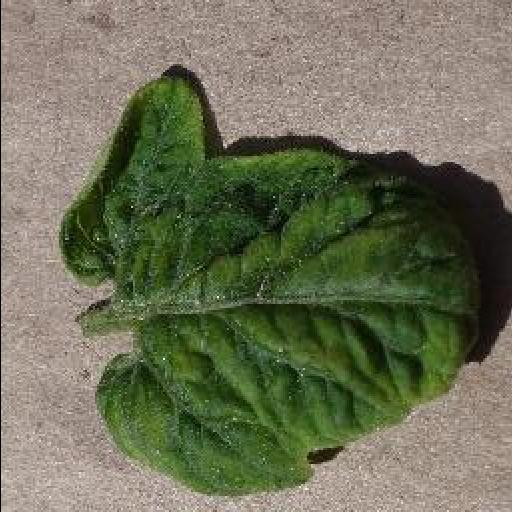disease_tomato: (56, 80, 476, 498)
